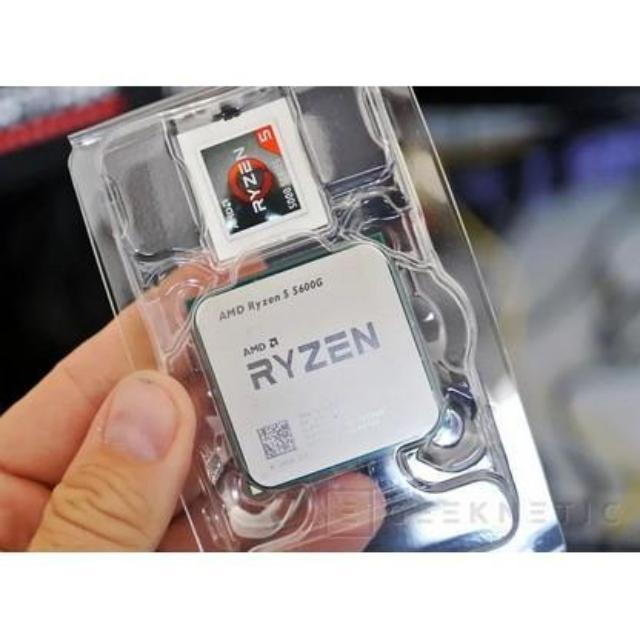CPU: (188, 243, 444, 494)
